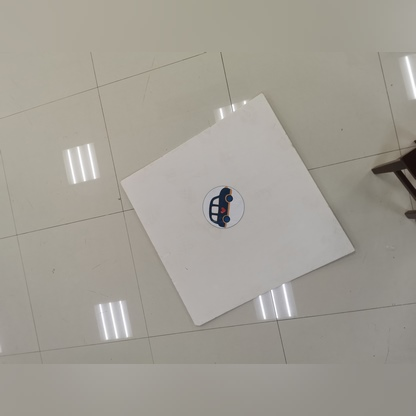car: (197, 181, 241, 224)
